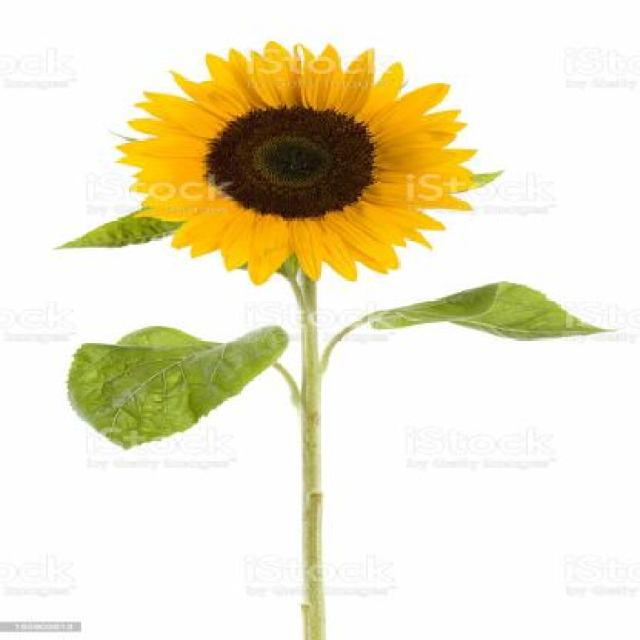sunflower: (109, 43, 505, 288)
